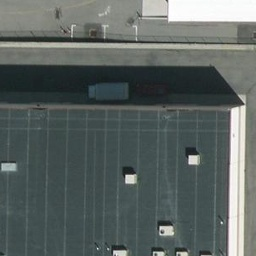car: (135, 81, 169, 98)
